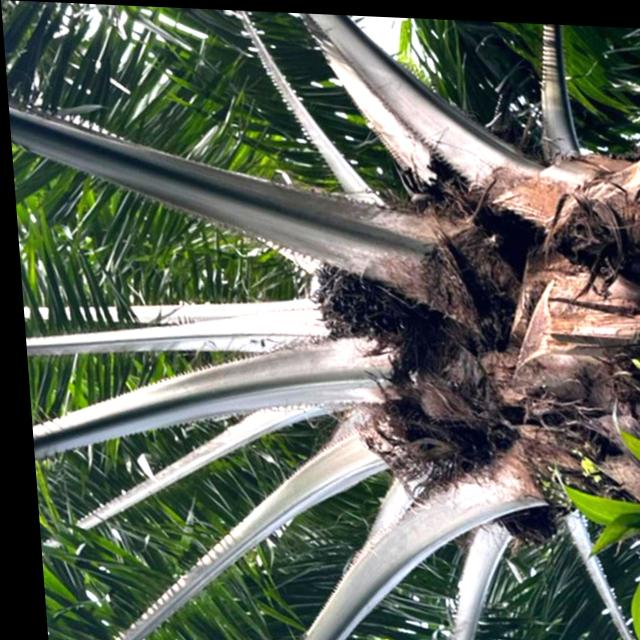almost: (298, 250, 426, 356)
